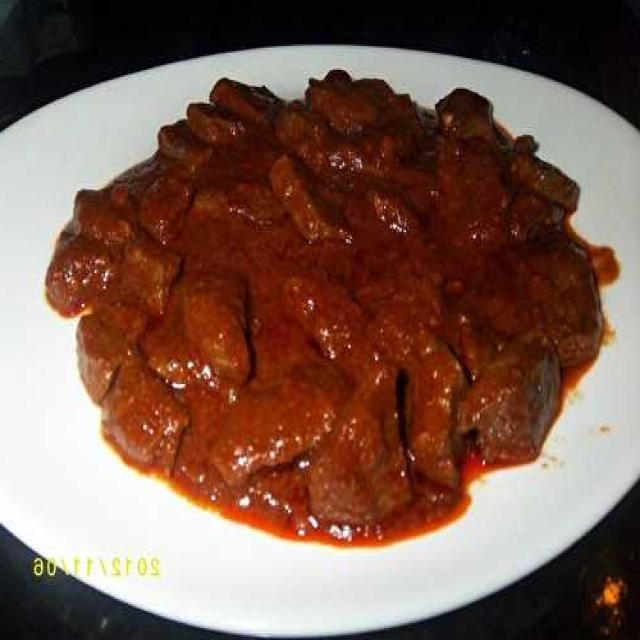kamouniya: (49, 78, 604, 541)
